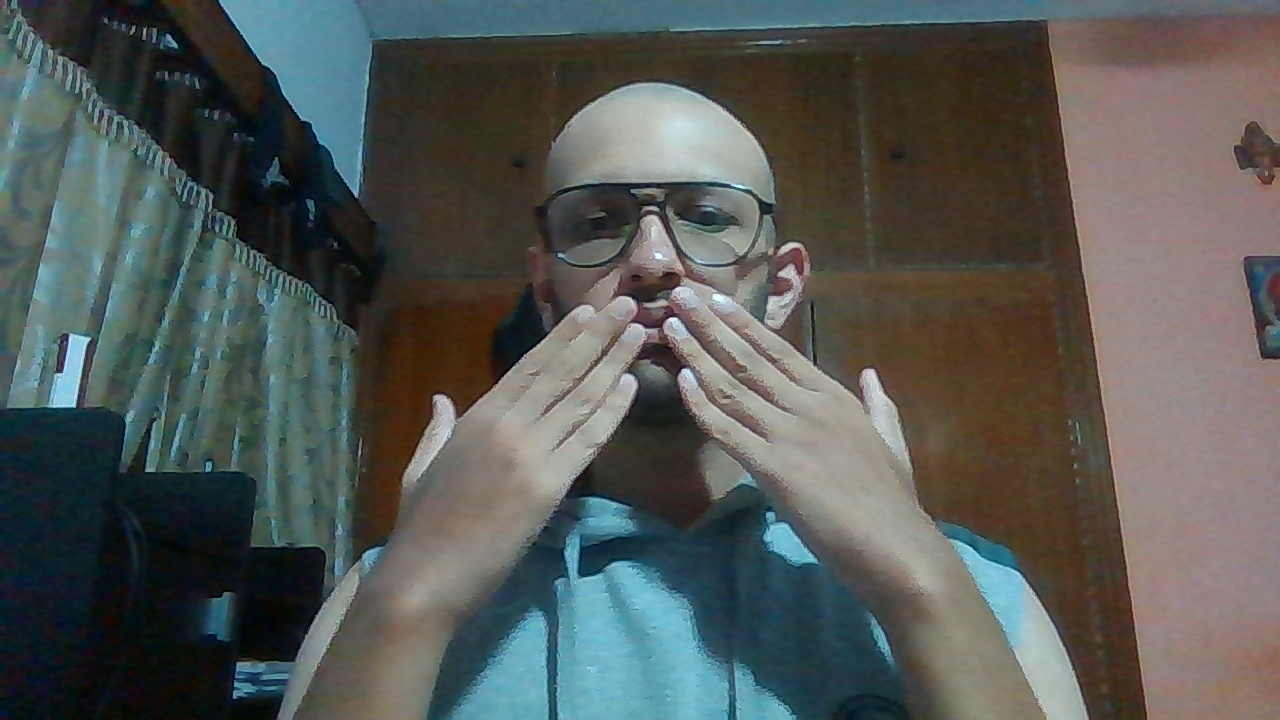Thank You: (382, 288, 943, 580)
